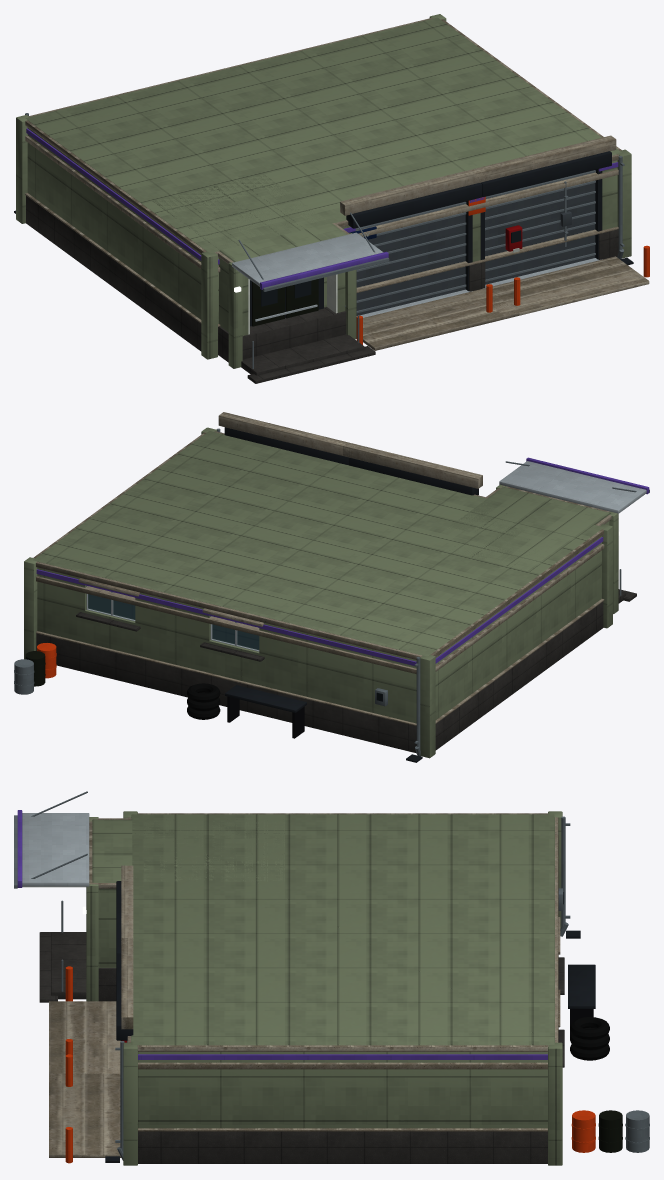
Rendered from fac_maint_main.glb.
3 renders of one model, top to bottom at view 1: azimuth 30°, elevation 25°; view 2: azimuth 150°, elevation 25°; view 3: azimuth 270°, elevation 25°, orthographic. The views are drawn at different scales.
Parts seen in each view (by area): view 1: FAC_MAINT_MAIN; view 2: FAC_MAINT_MAIN; view 3: FAC_MAINT_MAIN.
Part boxes in pixels (bbox=[...]): FAC_MAINT_MAIN: bbox=[14, 14, 649, 383]; FAC_MAINT_MAIN: bbox=[14, 412, 649, 762]; FAC_MAINT_MAIN: bbox=[14, 791, 649, 1165].
Size of the model in its own units: 13.76 by 3.98 by 15.58.
19 materials, 16 textured.
